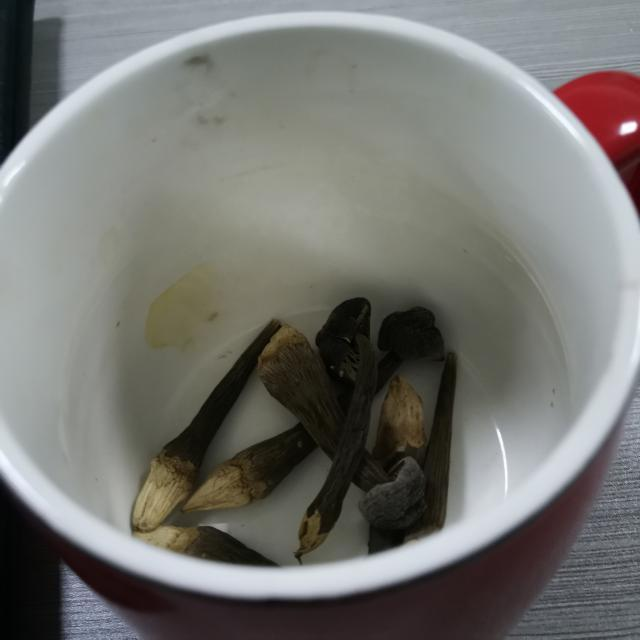Collybia albuminosa: (132, 289, 459, 561)
